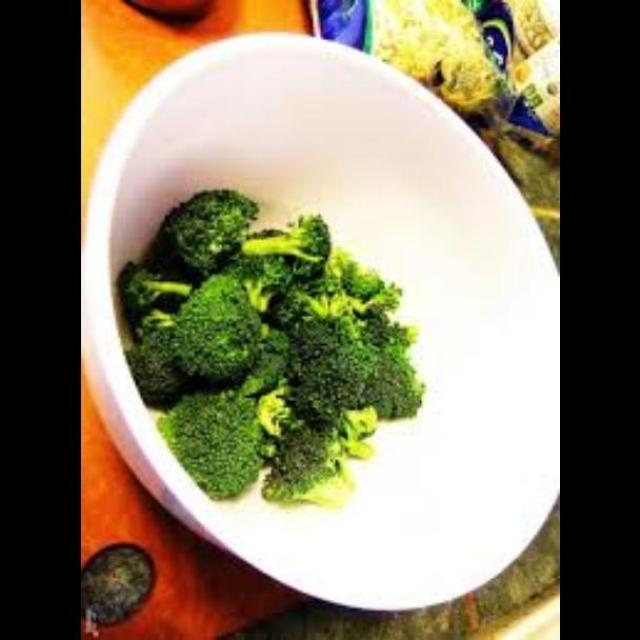Broccoli: (110, 166, 423, 502)
